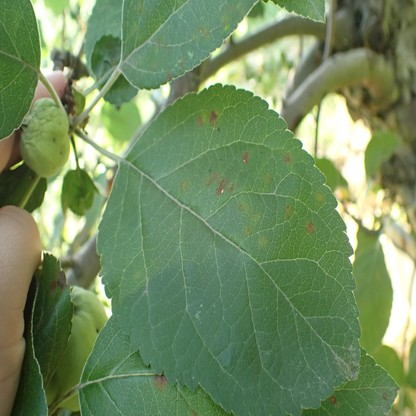frogeye_leaf_spot: (57, 268, 66, 292), (50, 278, 58, 292), (330, 395, 337, 406), (382, 392, 387, 402)
powdery_mildew: (337, 344, 357, 379)
scab: (194, 23, 212, 45), (219, 6, 233, 33), (152, 34, 170, 54), (207, 105, 220, 127), (204, 171, 220, 188), (154, 374, 167, 393), (260, 170, 273, 187), (241, 148, 253, 166), (280, 204, 292, 221), (217, 178, 228, 196), (236, 197, 247, 214), (314, 190, 326, 205), (197, 111, 206, 130), (129, 21, 139, 38), (134, 0, 146, 14), (282, 153, 293, 168), (180, 179, 191, 192), (243, 224, 253, 238), (251, 212, 260, 226), (226, 182, 236, 194), (236, 5, 246, 16), (307, 221, 316, 233), (152, 62, 159, 73), (179, 57, 184, 71), (259, 237, 266, 246), (165, 72, 171, 81)
